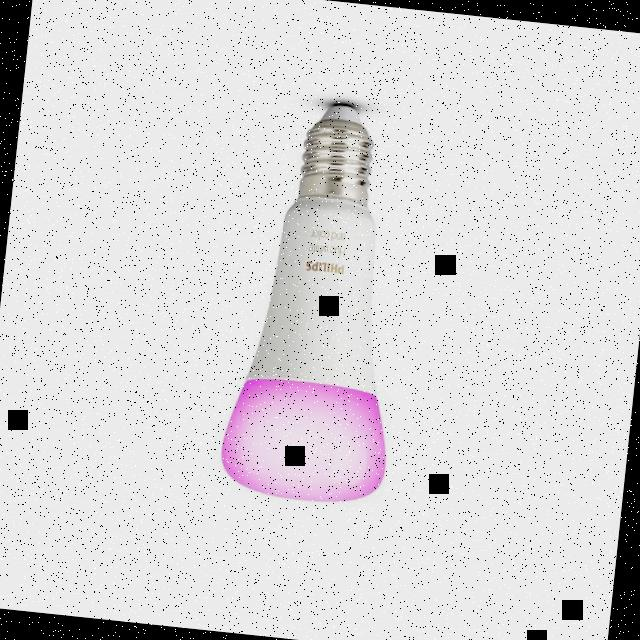light_bulb: (208, 81, 446, 524)
